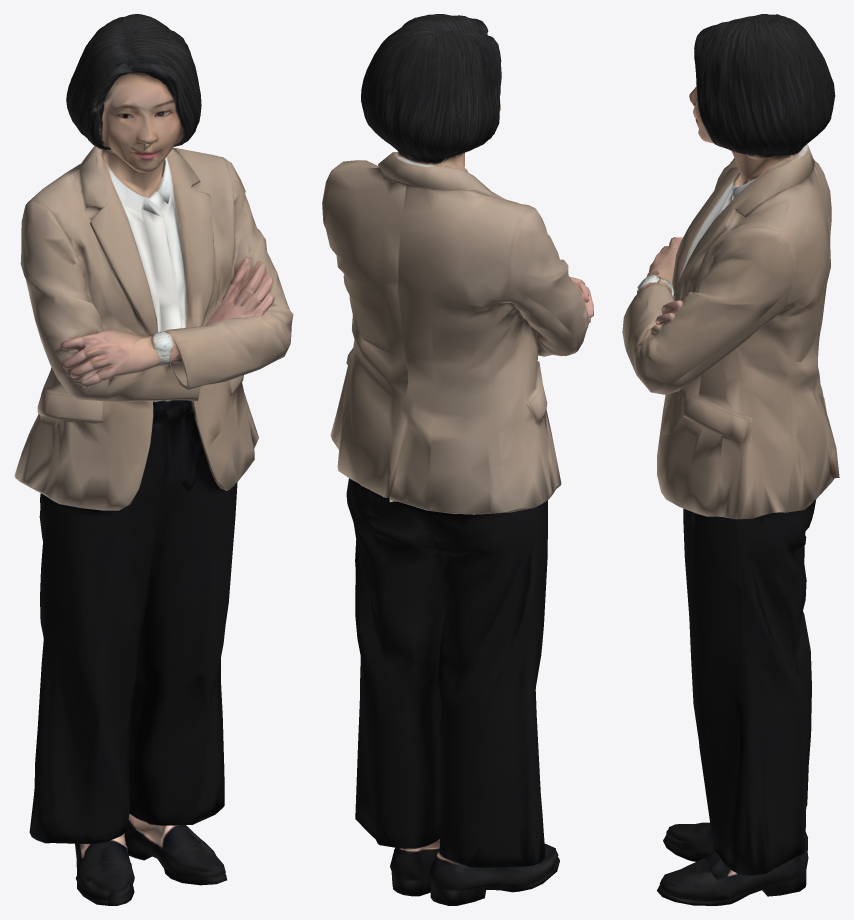
Rendered from JPGV01_W03_L10k.glb.
3 renders of one model, left to right at view 1: azimuth 30°, elevation 25°; view 2: azimuth 150°, elevation 25°; view 3: azimuth 270°, elevation 25°, orthographic. The views are drawn at different scales.
Parts seen in each view (by area): view 1: JPGV01_W03_L10k; view 2: JPGV01_W03_L10k; view 3: JPGV01_W03_L10k.
Boxes of the visible parts, left/top/right/bottom form: JPGV01_W03_L10k: left=14, top=14, right=293, bottom=905; JPGV01_W03_L10k: left=322, top=14, right=593, bottom=905; JPGV01_W03_L10k: left=622, top=14, right=839, bottom=905.
Bounding box in the file's own units: 0.452 × 1.6 × 0.3671.
1 material, 1 textured.
